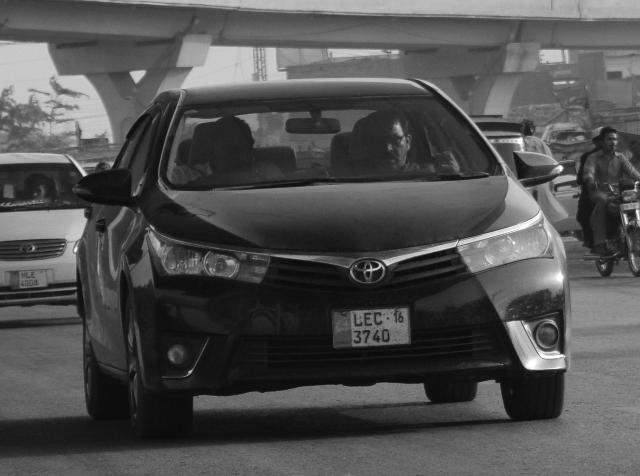Number: (350, 312, 396, 344)
